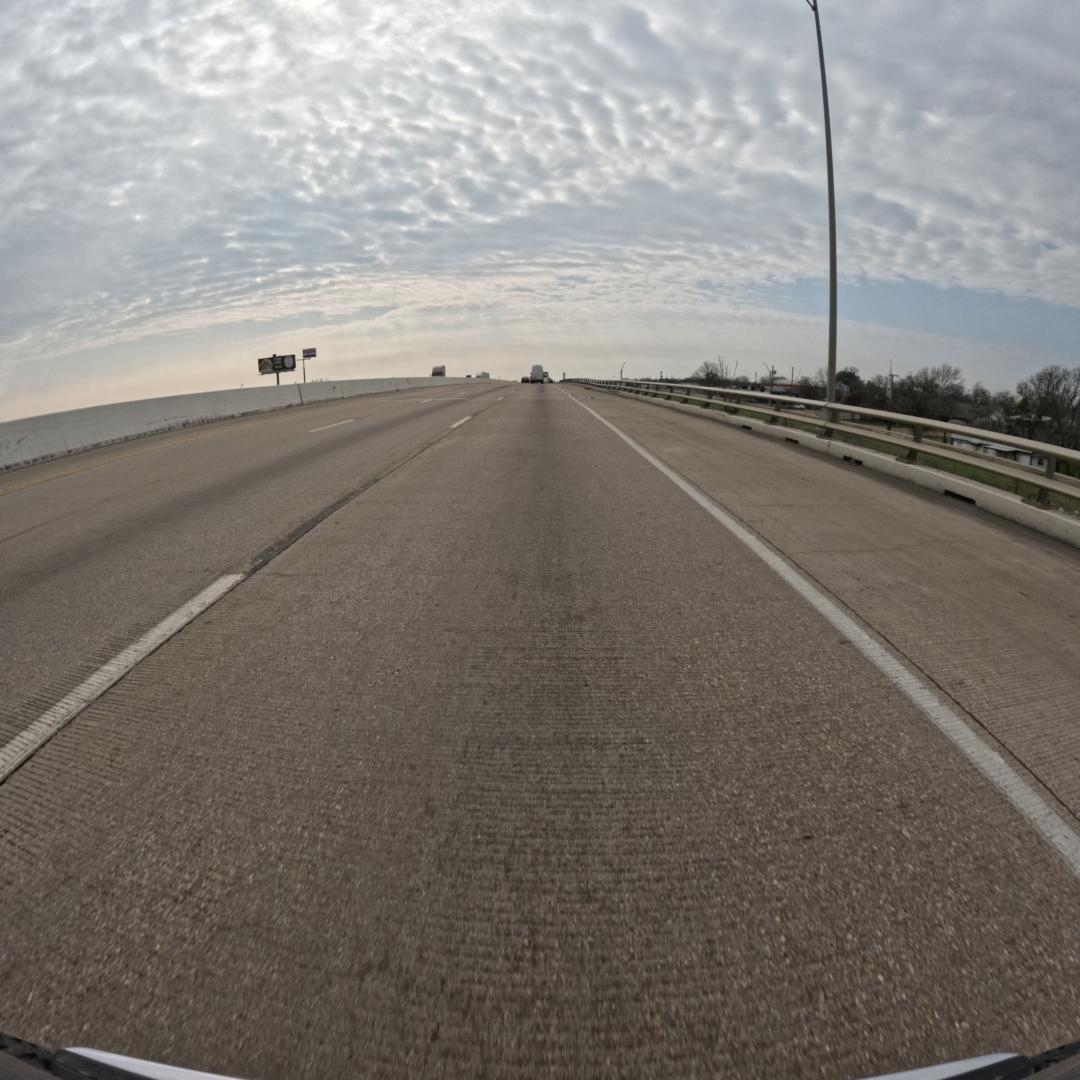lane0: (0, 389, 1080, 1080)
lane1: (0, 392, 493, 779)
